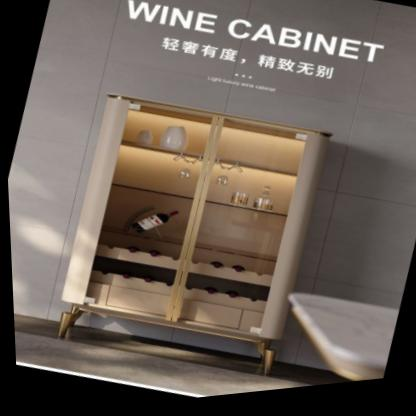Cupboard: (52, 97, 329, 382)
